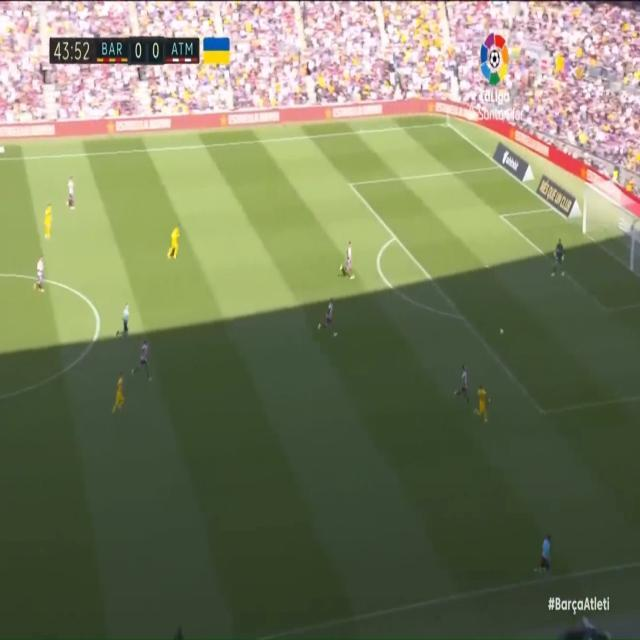ball: (498, 325, 506, 342)
goalkeeper: (551, 231, 568, 287)
player: (319, 293, 341, 343), (341, 238, 357, 292), (475, 382, 493, 430), (453, 365, 472, 408), (136, 338, 154, 383), (166, 220, 184, 261), (112, 371, 128, 414), (34, 254, 46, 298), (41, 204, 55, 239), (64, 174, 76, 212)
referee: (535, 526, 555, 581), (114, 302, 136, 347)
